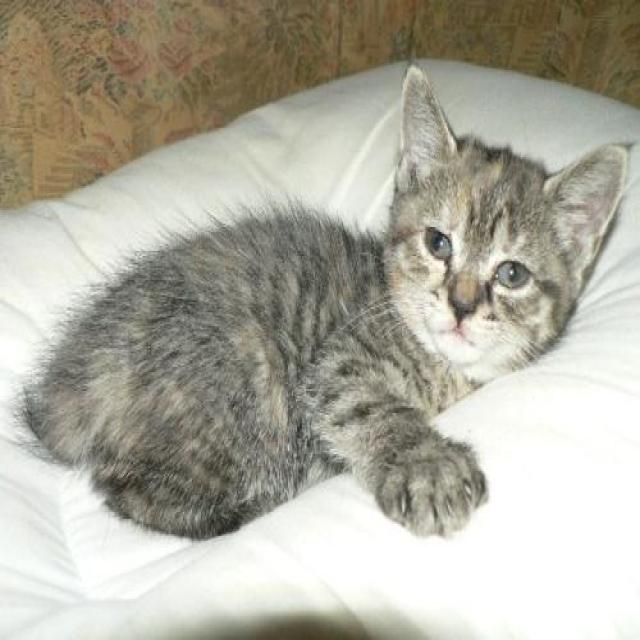Cats: (17, 61, 635, 541)
